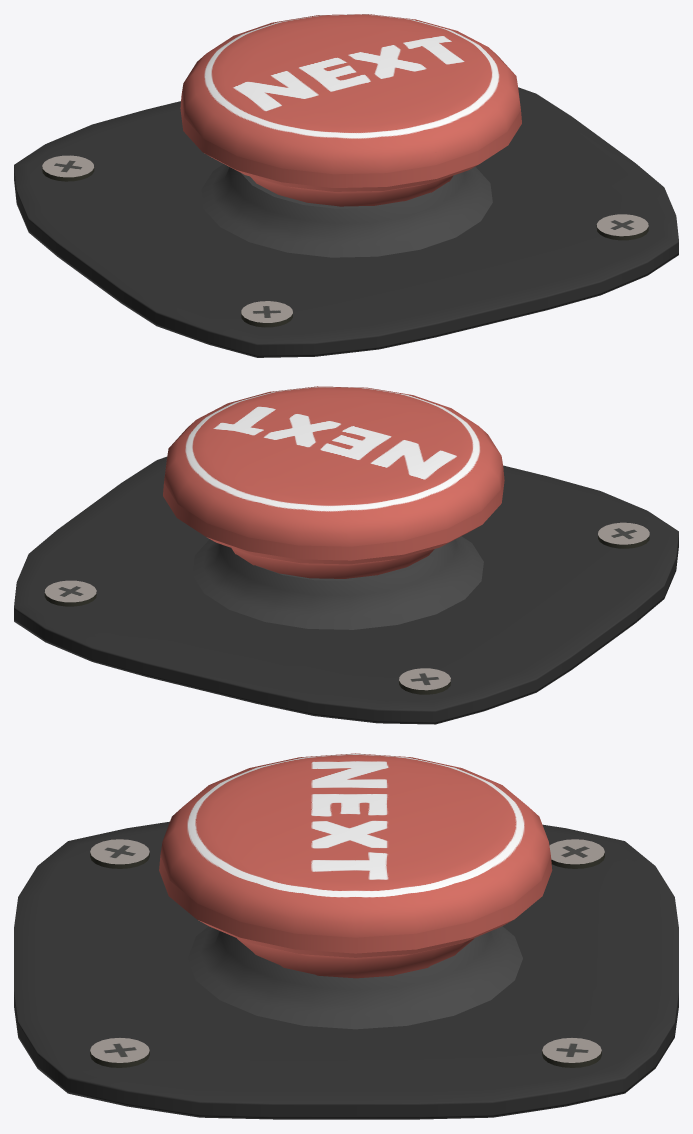
Rendered from Button+Animation.fbx.
3 views of the same model, one above another, from view 1: azimuth 30°, elevation 25°; view 2: azimuth 150°, elevation 25°; view 3: azimuth 270°, elevation 25° (orthographic). The views are drawn at different scales.
Visible parts, largest first — view 1: Panel, Button, pTorus1, pCylinder3, pCylinder4, pCylinder2; view 2: Panel, Button, pTorus1, pCylinder2, pCylinder5, pCylinder3; view 3: Panel, Button, pTorus1, pCylinder4, pCylinder5, pCylinder3, pCylinder2.
Boxes of the visible parts, <box> form: Panel: <box>14,87,678,357</box>; Button: <box>180,14,521,206</box>; pTorus1: <box>201,164,492,257</box>; pCylinder3: <box>241,301,292,327</box>; pCylinder4: <box>596,214,648,240</box>; pCylinder2: <box>42,155,94,181</box>; Panel: <box>14,456,678,724</box>; Button: <box>163,386,504,578</box>; pTorus1: <box>192,536,483,629</box>; pCylinder2: <box>399,668,450,694</box>; pCylinder5: <box>44,580,96,606</box>; pCylinder3: <box>598,522,649,548</box>; Panel: <box>14,821,678,1119</box>; Button: <box>159,753,552,978</box>; pTorus1: <box>187,926,522,1029</box>; pCylinder4: <box>90,1038,149,1067</box>; pCylinder5: <box>542,1038,601,1067</box>; pCylinder3: <box>90,839,149,868</box>; pCylinder2: <box>549,839,604,868</box>.
Size of the model in its own units: 0.261 by 0.078 by 0.2554.
1 material, 1 textured.
